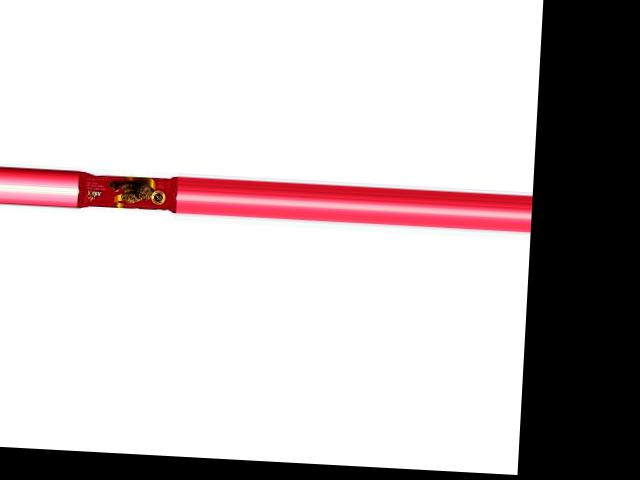chocolate: (76, 168, 176, 211)
